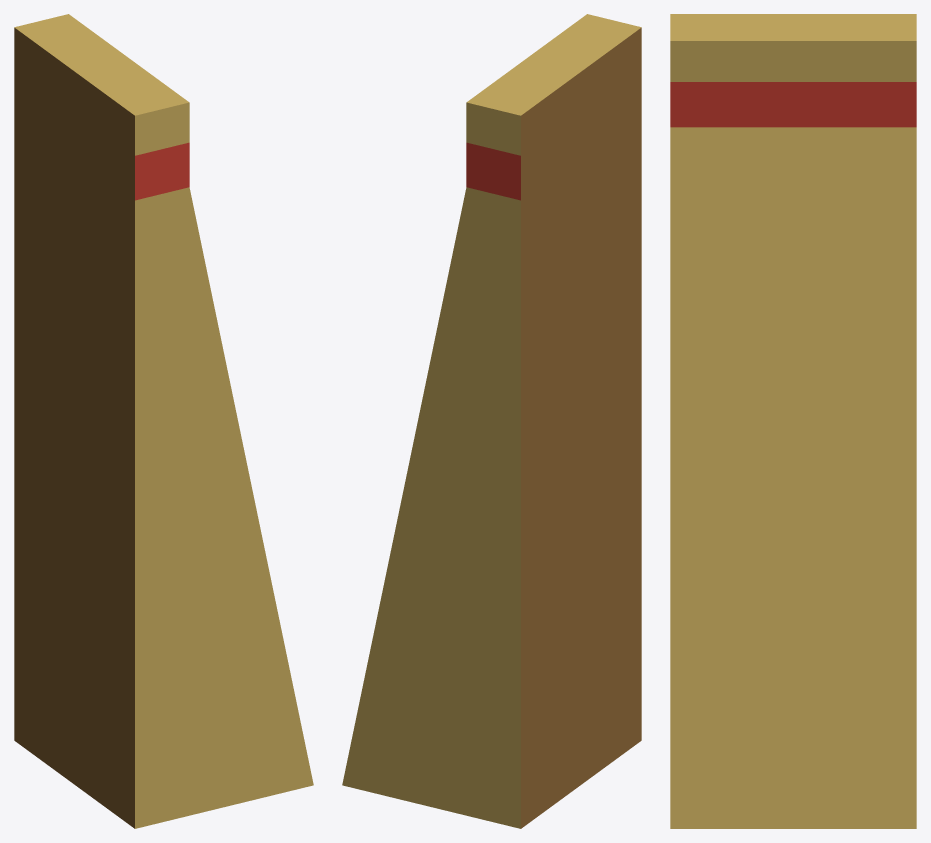
File: Wallpillar.fbx
The picture shows the model from 3 angles, left to right: view 1: azimuth 30°, elevation 25°; view 2: azimuth 150°, elevation 25°; view 3: azimuth 270°, elevation 25°; orthographic projection.
Parts seen in each view (by area): view 1: WallPillar; view 2: WallPillar; view 3: WallPillar.
Part boxes in pixels (x1,y1,x2,y2): WallPillar: [14, 14, 313, 828]; WallPillar: [342, 14, 641, 828]; WallPillar: [670, 14, 916, 828].
Size of the model in its own units: 141 by 538 by 165.
